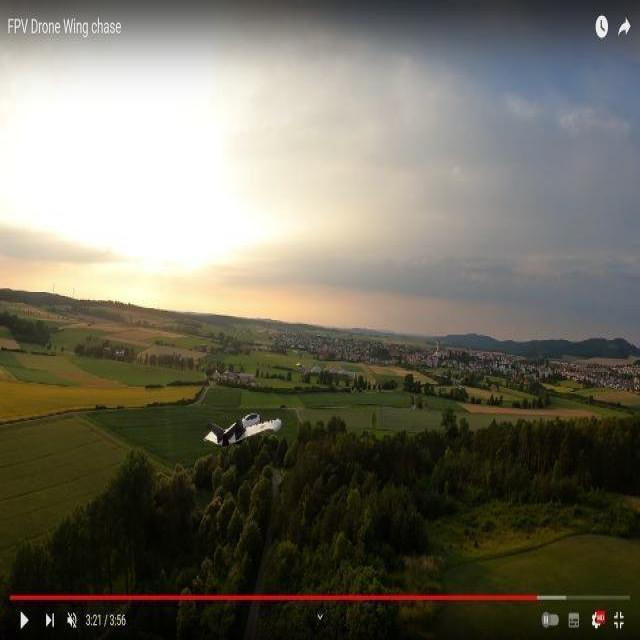Airplane: (199, 403, 286, 452)
